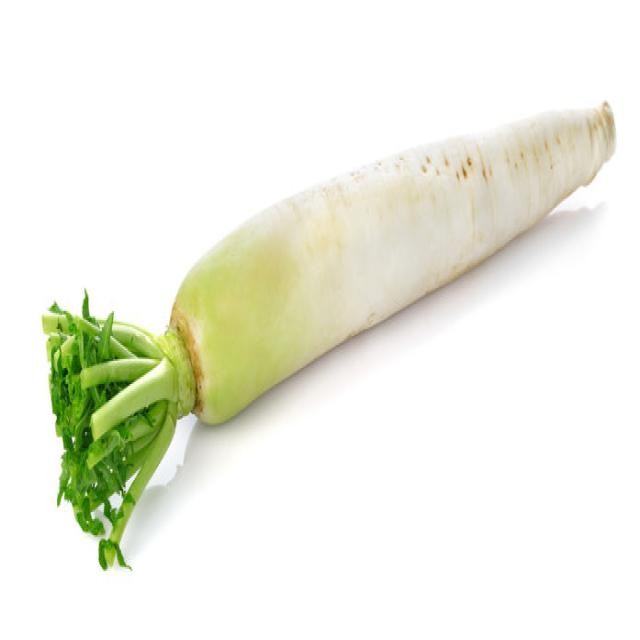Coriander Leaves: (41, 286, 178, 571)
Radish: (41, 96, 617, 569)
